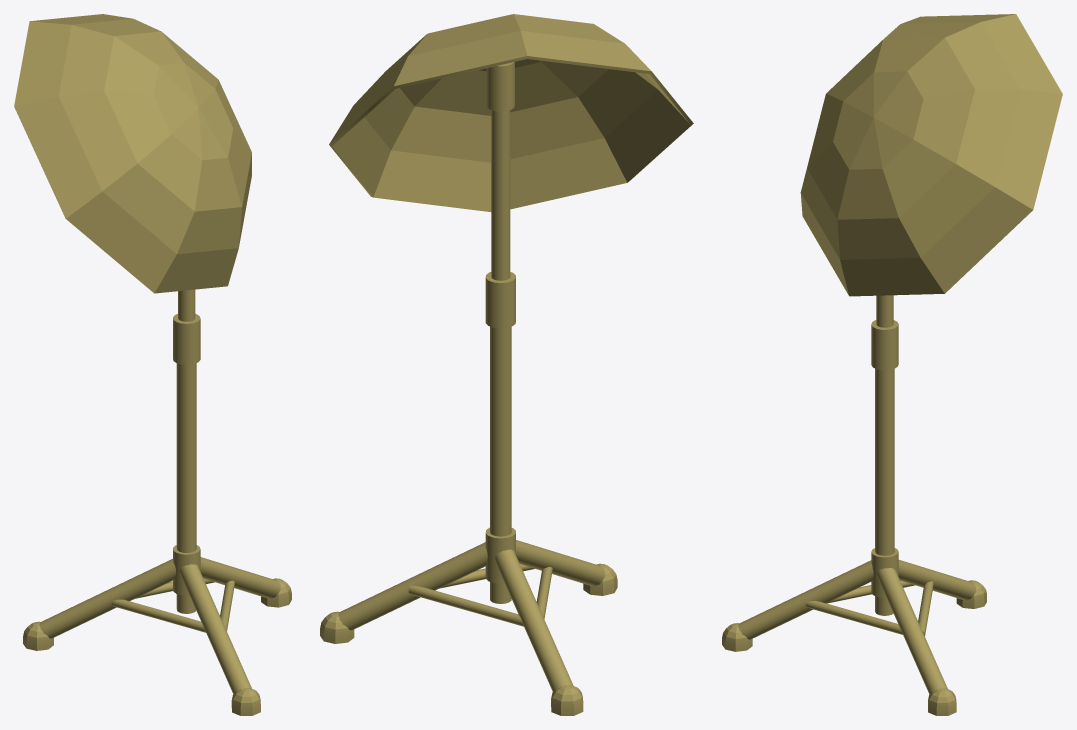
File: Lights_Studio.fbx
3 renders of one model, left to right at view 1: azimuth 30°, elevation 25°; view 2: azimuth 150°, elevation 25°; view 3: azimuth 270°, elevation 25°, orthographic. The views are drawn at different scales.
Parts seen in each view (by area): view 1: Lights_Studio; view 2: Lights_Studio; view 3: Lights_Studio.
Part boxes in pixels (x1,y1,x2,y2): Lights_Studio: [14, 14, 291, 715]; Lights_Studio: [320, 14, 693, 715]; Lights_Studio: [722, 14, 1062, 715].
Size of the model in its own units: 79.65 by 162 by 83.41.
